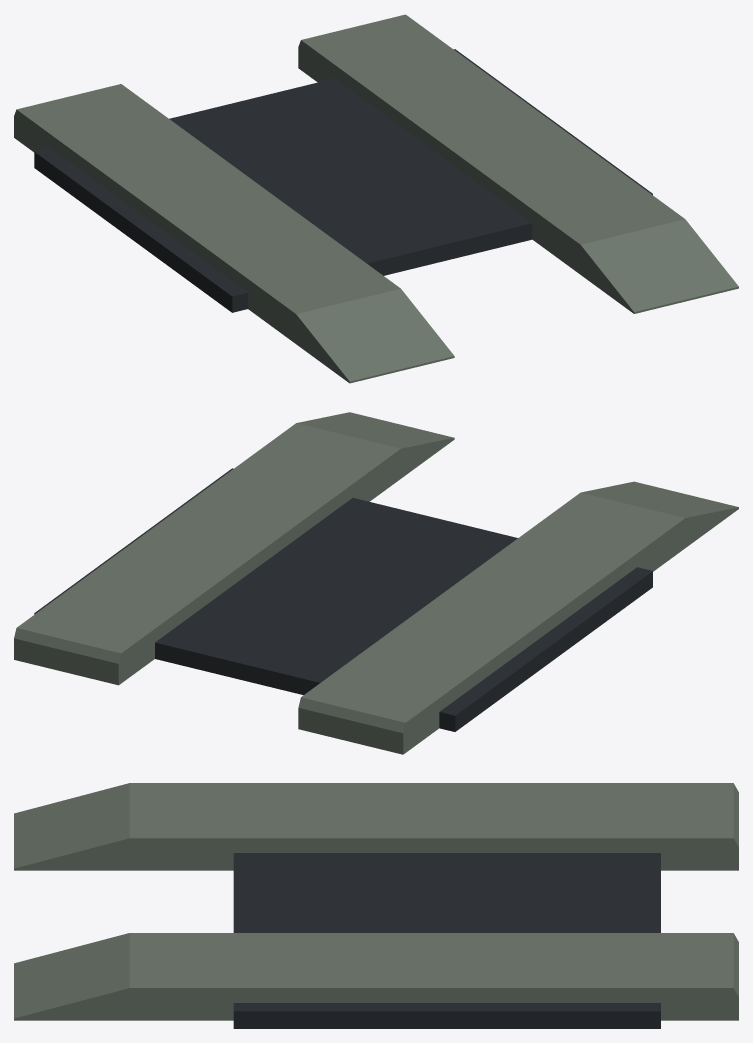
Rendered from SM_garage_platform_02.fbx.
3 renders of one model, top to bottom at view 1: azimuth 30°, elevation 25°; view 2: azimuth 150°, elevation 25°; view 3: azimuth 270°, elevation 25°, orthographic. The views are drawn at different scales.
Visible parts, largest first — view 1: garage_platform_02; view 2: garage_platform_02; view 3: garage_platform_02.
Part boxes in pixels (x1,y1,x2,y2): garage_platform_02: [14, 14, 738, 383]; garage_platform_02: [14, 412, 738, 754]; garage_platform_02: [14, 783, 738, 1028].
Size of the model in its own units: 244 by 16.69 by 337.
